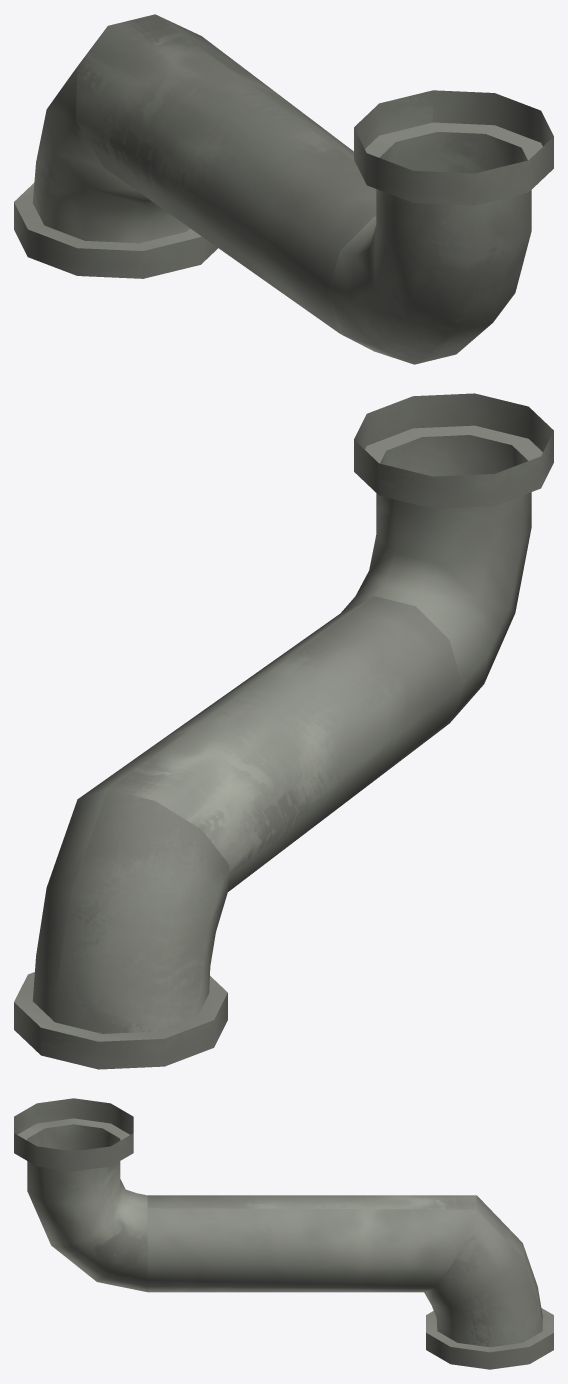
File: pipe_2_02.fbx
The picture shows the model from 3 angles, top to bottom: view 1: azimuth 30°, elevation 25°; view 2: azimuth 150°, elevation 25°; view 3: azimuth 270°, elevation 25°; orthographic projection. The views are drawn at different scales.
Parts seen in each view (by area): view 1: Object026; view 2: Object026; view 3: Object026.
Part boxes in pixels (x1,y1,x2,y2): Object026: (14, 14, 553, 364); Object026: (14, 393, 553, 1069); Object026: (14, 1098, 553, 1369).
Size of the model in its own units: 8.14 by 14.47 by 32.71.
